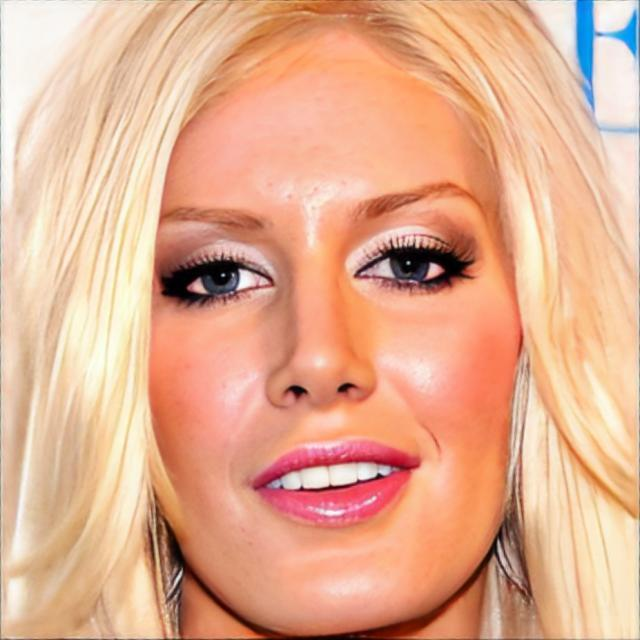content: (138, 8, 529, 635)
